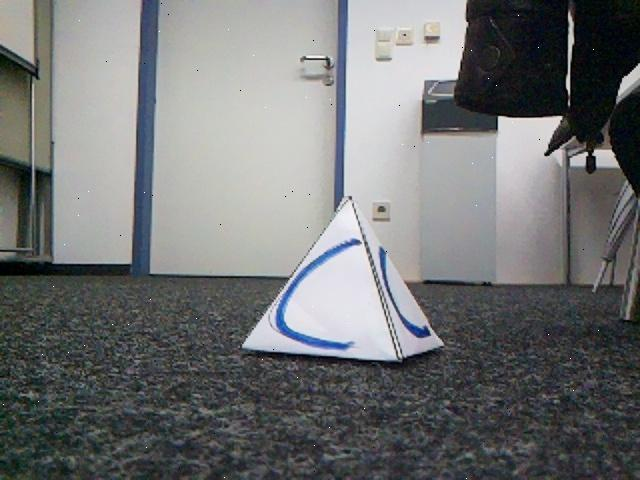C: (243, 192, 444, 362)
